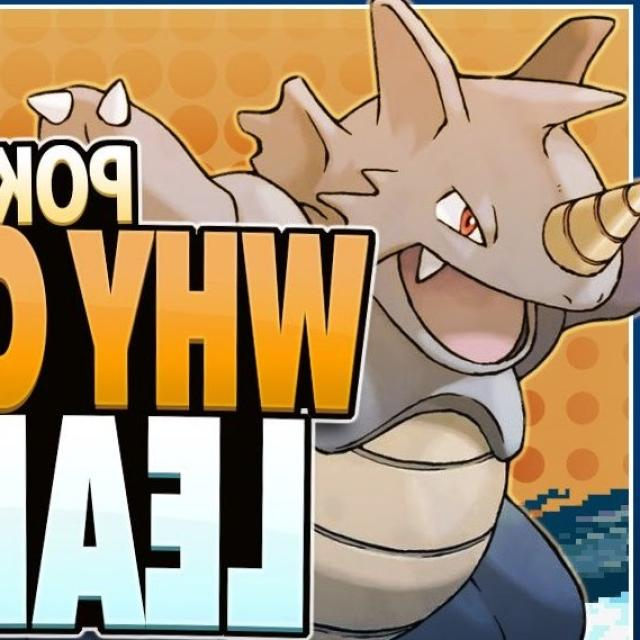Rhydon: (287, 12, 640, 640)
